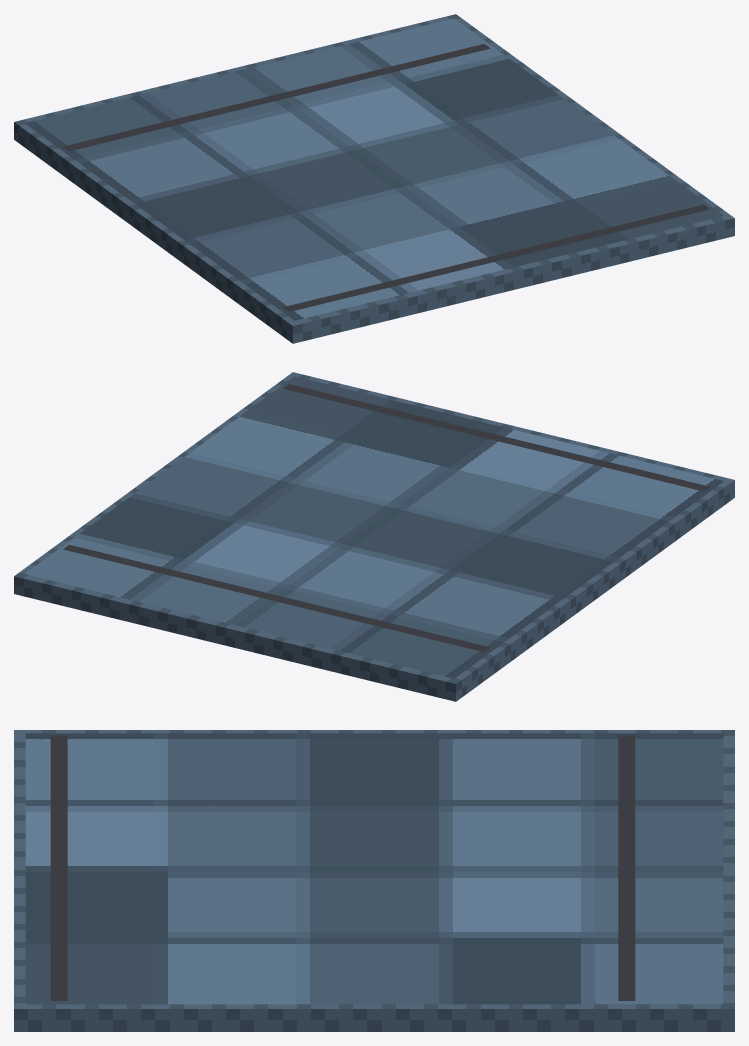
File: sheet_denim_patchwork.glb
The picture shows the model from 3 angles, top to bottom: view 1: azimuth 30°, elevation 25°; view 2: azimuth 150°, elevation 25°; view 3: azimuth 270°, elevation 25°; orthographic projection. The views are drawn at different scales.
Parts seen in each view (by area): view 1: block_stitched patchwork, block_flat stock, block_edge crease (×2); view 2: block_stitched patchwork, block_flat stock, block_edge crease (×2); view 3: block_stitched patchwork, block_flat stock, block_edge crease (×2).
Boxes of the visible parts, box(x1,y1,x2,y2) form: block_stitched patchwork: box(25, 18, 723, 320); block_flat stock: box(14, 14, 734, 343); block_edge crease (×2): box(63, 44, 709, 311); block_stitched patchwork: box(25, 376, 723, 678); block_flat stock: box(14, 372, 734, 701); block_edge crease (×2): box(63, 384, 709, 652); block_stitched patchwork: box(25, 733, 723, 1004); block_flat stock: box(14, 730, 734, 1031); block_edge crease (×2): box(50, 735, 635, 1000).
Bounding box in the file's own units: 0.1315 × 0.00535 × 0.1437.
Materials: 1 (1 with a texture image).
